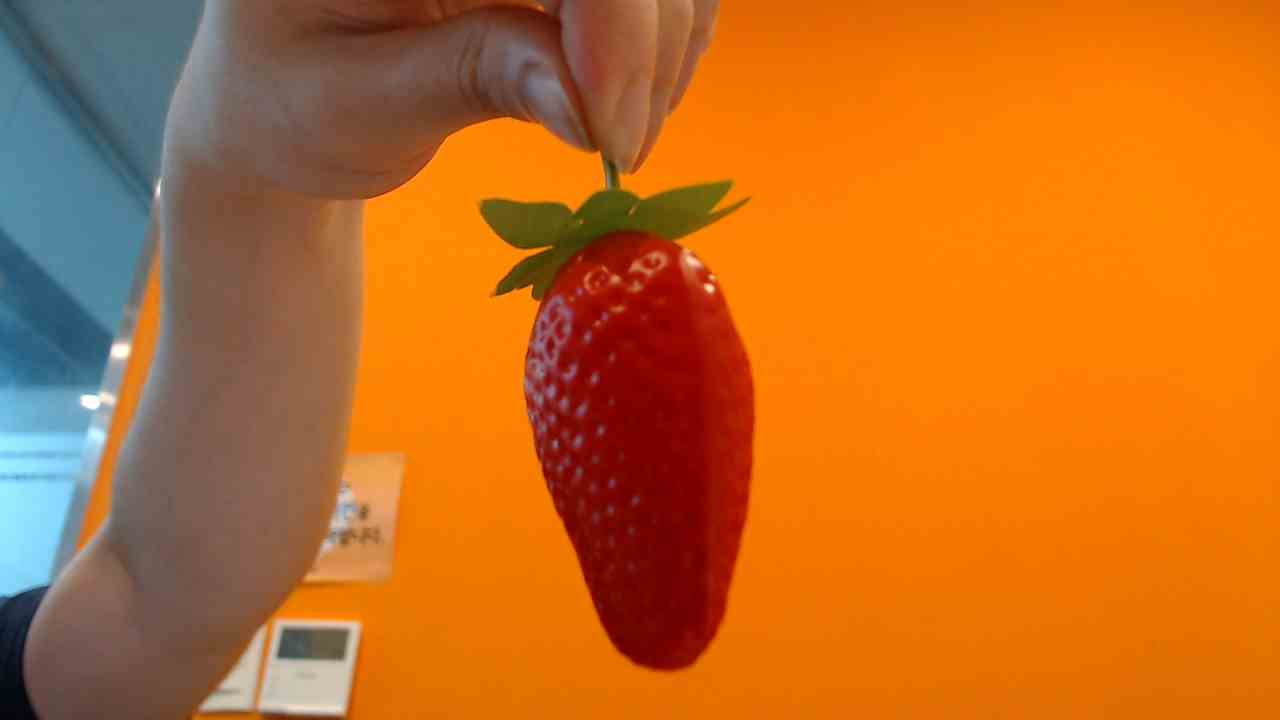strawberry: (506, 201, 756, 669)
